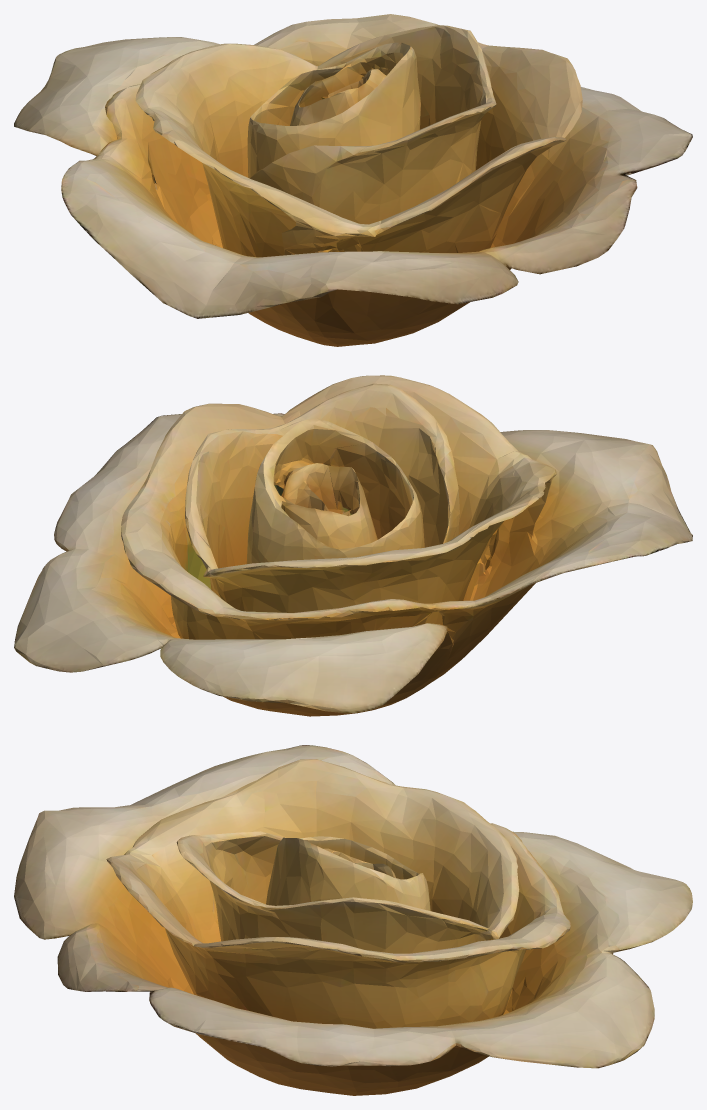
Rendered from deco-flower.glb.
3 views of the same model, one above another, from view 1: azimuth 30°, elevation 25°; view 2: azimuth 150°, elevation 25°; view 3: azimuth 270°, elevation 25° (orthographic). The views are drawn at different scales.
Parts seen in each view (by area): view 1: world; view 2: world; view 3: world.
Part boxes in pixels (left/top/right/bottom): world: left=14, top=14, right=692, bottom=346; world: left=14, top=375, right=692, bottom=716; world: left=14, top=745, right=692, bottom=1095.
Size of the model in its own units: 0.9301 by 0.4216 by 0.9986.
Materials: 1 (1 with a texture image).
